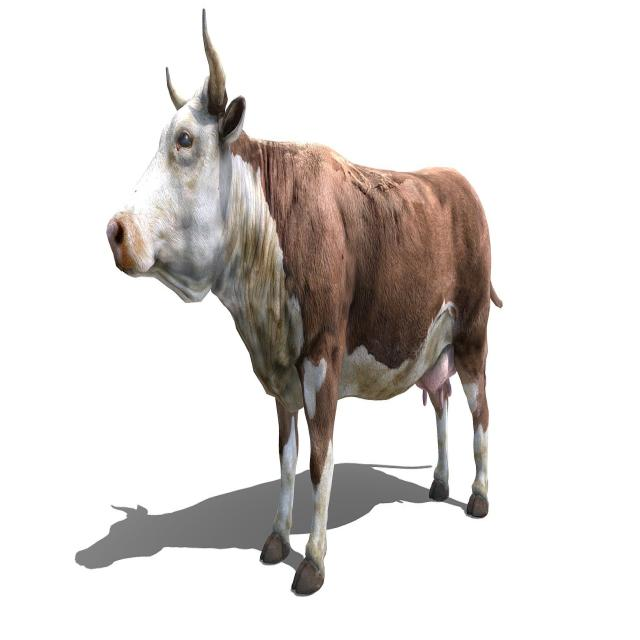Ox: (104, 1, 498, 590)
